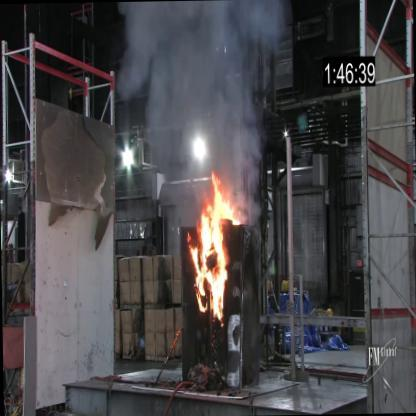fire: (185, 171, 245, 322)
smoke: (116, 0, 290, 169)
